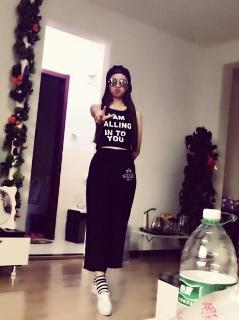trousers: (83, 148, 137, 274)
vest dress: (96, 102, 135, 150)
